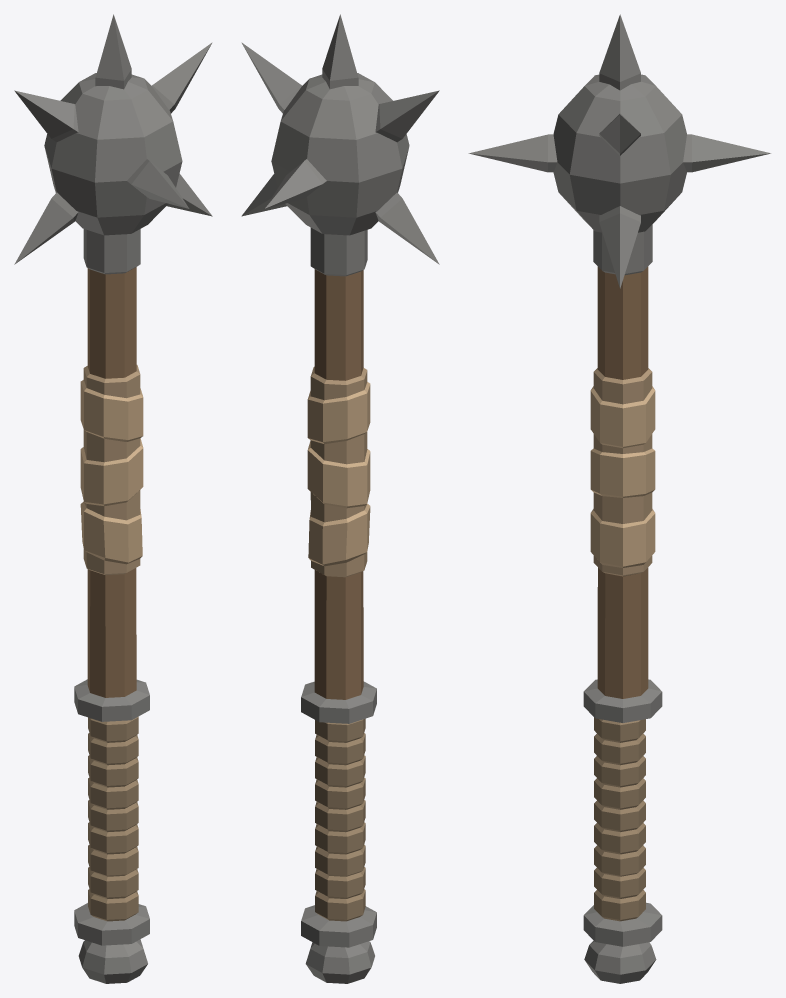
The model's file is SM_pwe_medieval_mace_04.fbx.
3 renders of one model, left to right at view 1: azimuth 30°, elevation 25°; view 2: azimuth 150°, elevation 25°; view 3: azimuth 270°, elevation 25°, orthographic.
Visible parts, largest first — view 1: SM_pwe_medieval_mace_04; view 2: SM_pwe_medieval_mace_04; view 3: SM_pwe_medieval_mace_04.
Part boxes in pixels (left/top/right/bottom): SM_pwe_medieval_mace_04: left=14, top=14, right=212, bottom=983; SM_pwe_medieval_mace_04: left=241, top=14, right=439, bottom=983; SM_pwe_medieval_mace_04: left=468, top=14, right=770, bottom=983.
Bounding box in the file's own units: 20.63 × 95.83 × 27.27.
